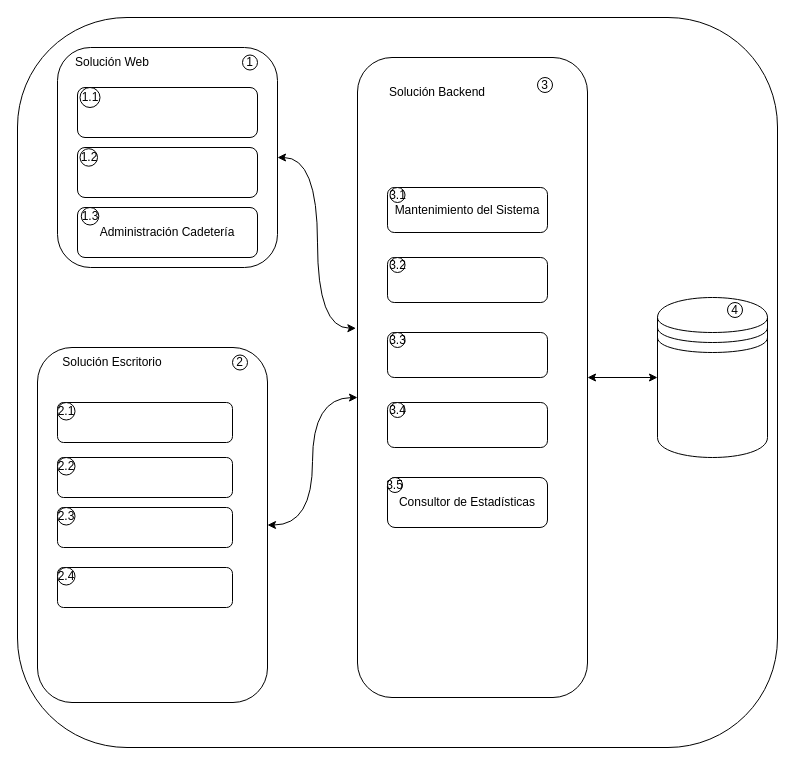
The diagram is 795 pixels wide and 765 high, and some of its shapes have lost their labels. The box of each missing label's shape, as (x1, y1, x2, y2) in pixels:
Acceso a Mensajería: (76, 146, 258, 198)
Administración de Seguridad: (386, 256, 548, 302)
Administrador de Contabilidad: (56, 566, 232, 608)
Administrador de Pedidos: (76, 86, 258, 138)
Administrador de Stock: (56, 402, 232, 442)
Gestión de Fabricación: (56, 456, 232, 498)
Gestión de Proveedores y Pedidos a Proveedores: (56, 506, 232, 548)
Modulo Contable: (386, 402, 548, 448)
Motor de Eventos: (386, 332, 548, 378)
SQLServer: (656, 296, 768, 458)
